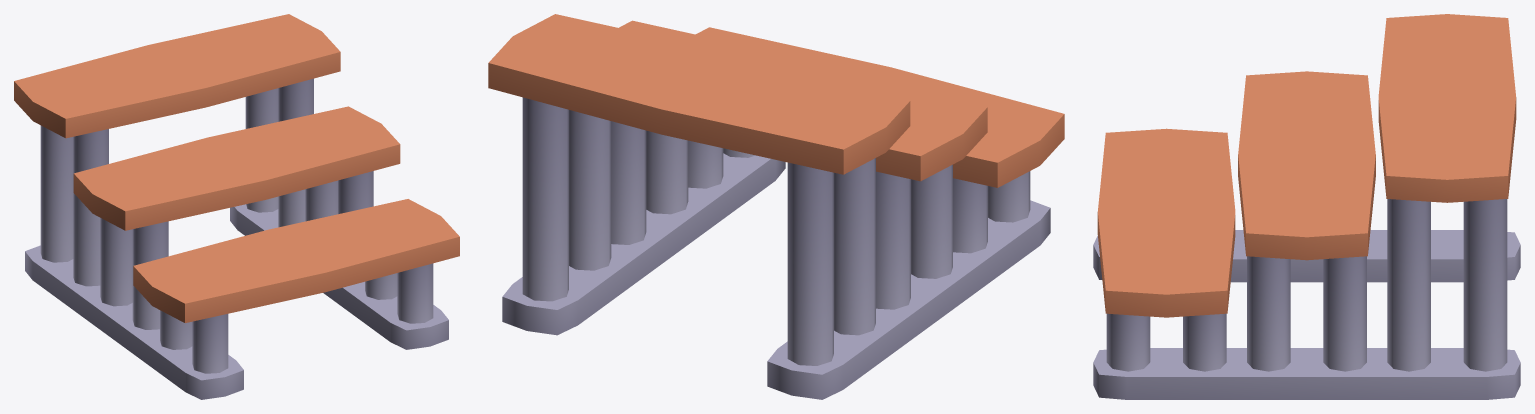
The model's file is benches.fbx.
3 views of the same model, side by side, from view 1: azimuth 30°, elevation 25°; view 2: azimuth 150°, elevation 25°; view 3: azimuth 270°, elevation 25° (orthographic). The views are drawn at different scales.
Parts seen in each view (by area): view 1: benches; view 2: benches; view 3: benches.
Part boxes in pixels (box(x1,y1,x2,y2)): benches: box(14, 14, 459, 399); benches: box(488, 14, 1064, 399); benches: box(1093, 14, 1520, 399).
Bounding box in the file's own units: 100 × 64.52 × 109.
Materials: 1 (1 with a texture image).
